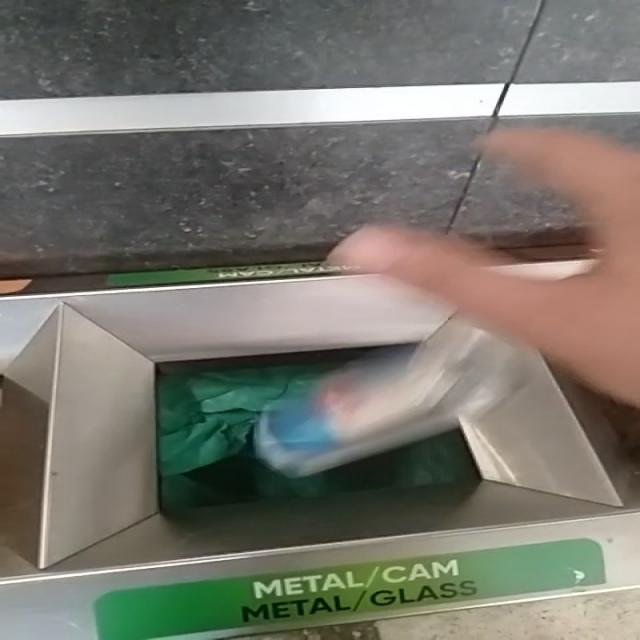bin: (1, 276, 640, 640)
metal: (255, 318, 532, 477)
